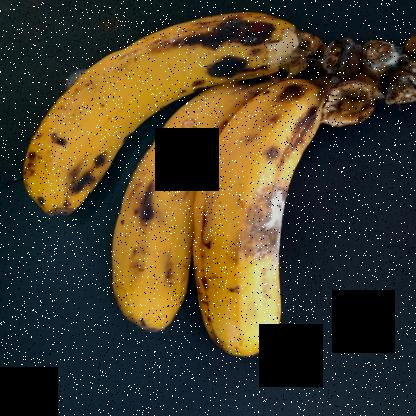overripe: (8, 0, 328, 222), (102, 68, 268, 355), (204, 77, 346, 372)
rotten: (231, 172, 316, 273)
